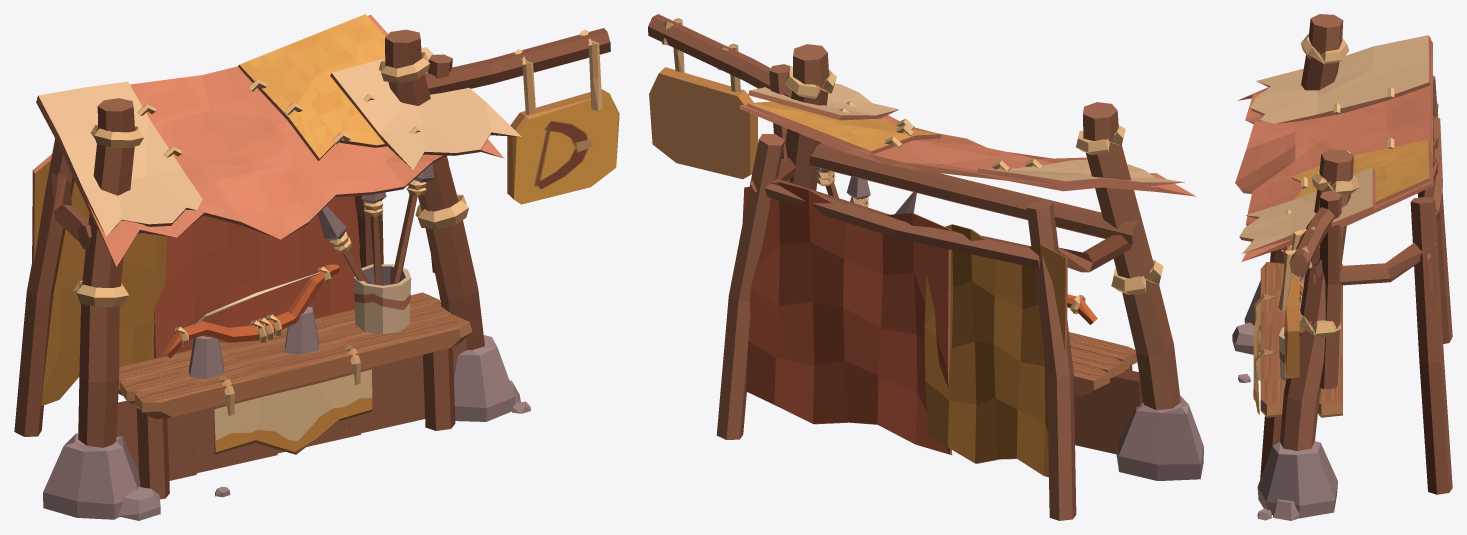
The model's file is Prehistoric_Bow_and_Spear_Stall.glb.
3 renders of one model, left to right at view 1: azimuth 30°, elevation 25°; view 2: azimuth 150°, elevation 25°; view 3: azimuth 270°, elevation 25°, orthographic. The views are drawn at different scales.
Visible parts, largest first — view 1: Prehistoric Bow and Spear Stall; view 2: Prehistoric Bow and Spear Stall; view 3: Prehistoric Bow and Spear Stall.
Boxes of the visible parts, <box> form: Prehistoric Bow and Spear Stall: <box>14,14,619,520</box>; Prehistoric Bow and Spear Stall: <box>648,14,1203,520</box>; Prehistoric Bow and Spear Stall: <box>1232,14,1452,520</box>.
Size of the model in its own units: 6.11 by 3.81 by 2.27.
Materials: 2 (2 with a texture image).
